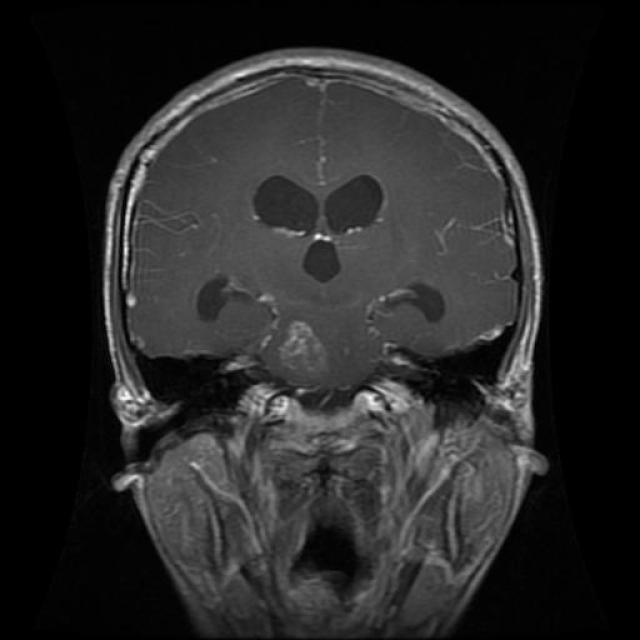glioma: (234, 145, 322, 233)
